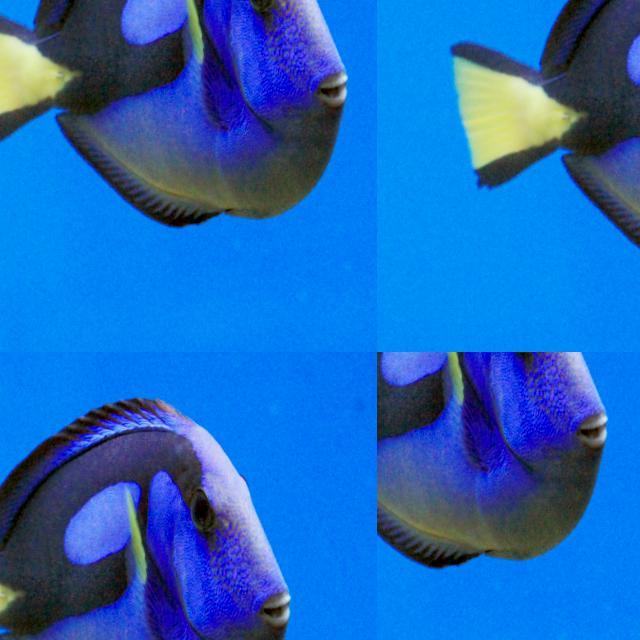BlueTang: (0, 0, 348, 231), (0, 398, 277, 640), (377, 352, 610, 569), (446, 0, 640, 242)
